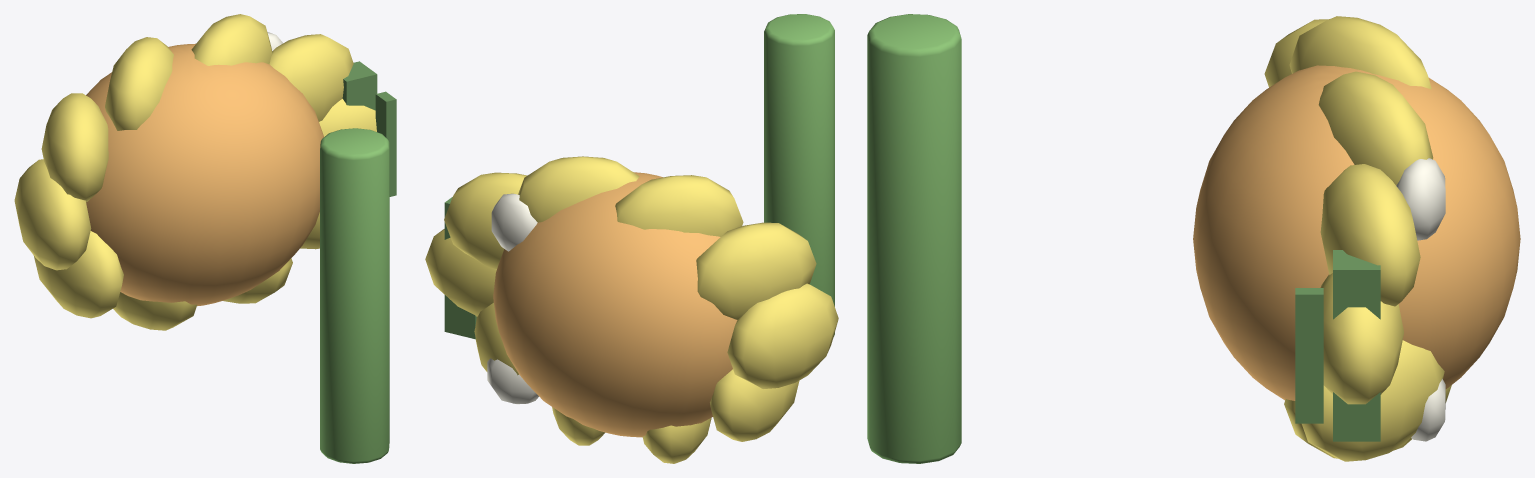
File: sunbloom.glb
3 views of the same model, side by side, from view 1: azimuth 30°, elevation 25°; view 2: azimuth 150°, elevation 25°; view 3: azimuth 270°, elevation 25° (orthographic). The views are drawn at different scales.
Visible parts, largest first — view 1: flower_core, stem, petal_5, petal_4, petal_3, petal_6, petal_1, petal_2, petal_7, mouth, petal_0, nose (+1 smaller); view 2: flower_core, stem, petal_5, petal_4, petal_3, petal_2, petal_1, petal_6, petal_0, petal_7, face_eye.001, petal_9 (+3 smaller); view 3: flower_core, stem, petal_1, petal_2, petal_0, petal_9, petal_3, nose, mouth, face_eye.001, petal_4, face_eye.
Part boxes in pixels (<box>): flower_core: <box>86,43,323,306</box>; stem: <box>320,128,389,463</box>; petal_5: <box>14,159,91,270</box>; petal_4: <box>41,93,108,202</box>; petal_3: <box>105,37,173,130</box>; petal_6: <box>33,231,123,318</box>; petal_1: <box>269,34,353,121</box>; petal_2: <box>191,14,272,65</box>; petal_7: <box>113,292,196,330</box>; mouth: <box>375,91,396,196</box>; petal_0: <box>319,99,376,136</box>; nose: <box>342,61,377,110</box>; flower_core: <box>493,172,737,437</box>; stem: <box>764,14,834,336</box>; petal_5: <box>727,283,838,388</box>; petal_4: <box>696,222,816,319</box>; petal_3: <box>615,175,743,236</box>; petal_2: <box>518,156,639,222</box>; petal_1: <box>444,172,527,268</box>; petal_6: <box>710,369,799,441</box>; petal_0: <box>425,229,496,316</box>; petal_7: <box>642,417,711,463</box>; face_eye.001: <box>491,193,537,251</box>; petal_9: <box>474,302,518,375</box>; flower_core: <box>1193,65,1520,400</box>; stem: <box>867,14,961,463</box>; petal_1: <box>1320,164,1420,306</box>; petal_2: <box>1318,71,1433,185</box>; petal_0: <box>1320,273,1403,404</box>; petal_9: <box>1302,340,1444,461</box>; petal_3: <box>1289,16,1431,89</box>; nose: <box>1333,250,1380,441</box>; mouth: <box>1295,288,1323,423</box>; face_eye.001: <box>1396,158,1445,240</box>; petal_4: <box>1264,19,1329,87</box>; face_eye: <box>1411,379,1445,441</box>.
Size of the model in its own units: 0.7393 by 0.58 by 0.827.
